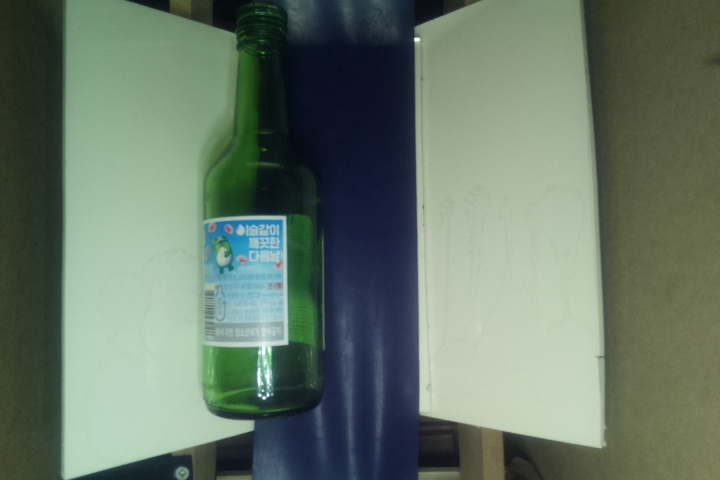soju: (200, 1, 334, 424)
